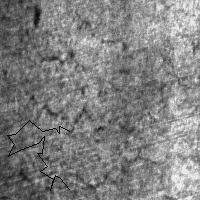crazing: (16, 79, 143, 193), (31, 35, 160, 88), (7, 120, 69, 190)
